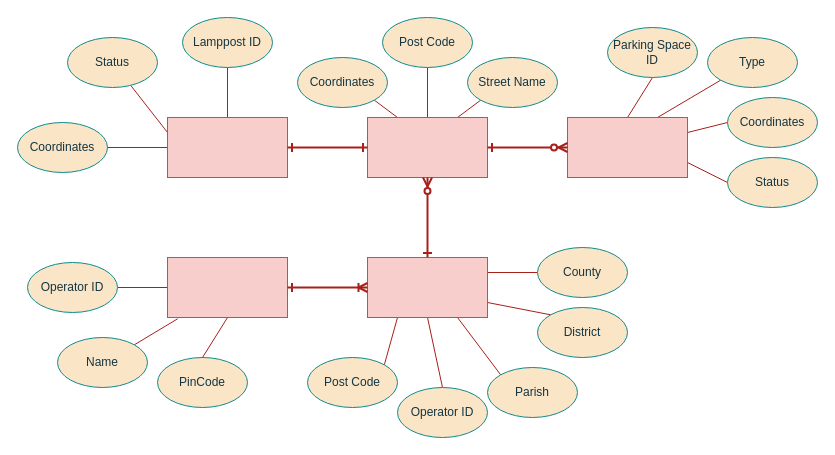
This 835x455 diagram has some shape labels left out. Each missing label, with the centre of its shape:
"Lamppost" belongs at [227,147].
"Location" belongs at [427,147].
"Operator" belongs at [227,287].
"Parking Space" belongs at [627,147].
"Region" belongs at [427,287].
